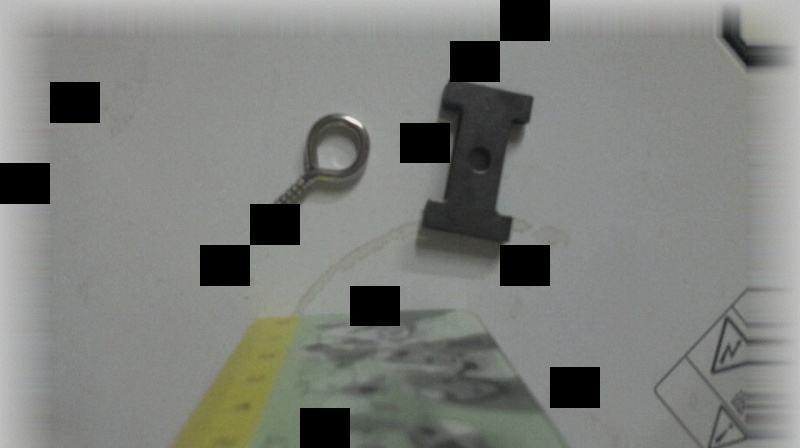O001: (252, 109, 373, 238)
O002: (415, 77, 536, 243)
